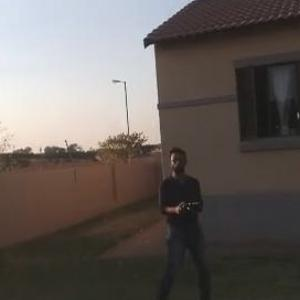follow: (150, 138, 226, 299)
